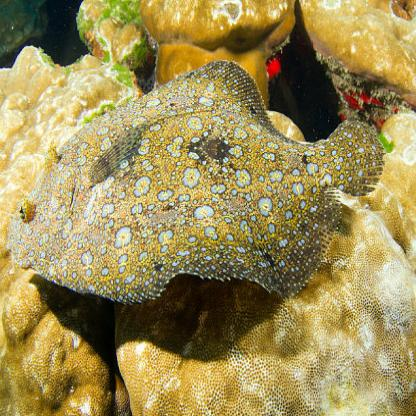flounder: (6, 57, 386, 309)
